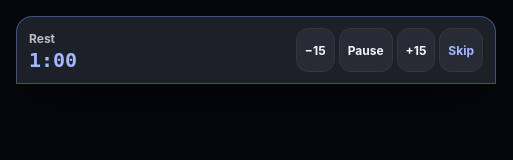
Test case: RestTimer › ±15s buttons work while paused
The image size is (513, 160).
Click the button with aria-label "pause timer": (366, 50) [339, 28, 392, 72]
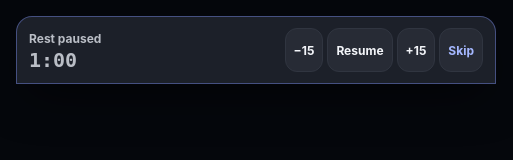
 Add 15s
Click the button named "Add 15 seconds": (416, 50) [397, 28, 435, 72]
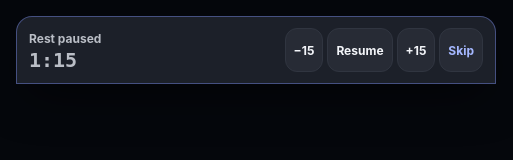
Now the text "1:15" is shown, box [29, 48, 77, 72]
Subtract 15s
Click the button named "Subtract 15 seconds": (304, 50) [285, 28, 323, 72]
Wait 3000 ms
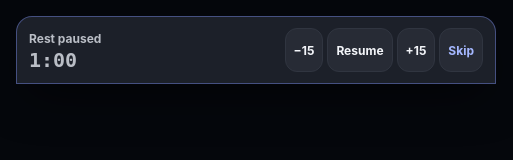
Now the text "1:00" is shown, box [29, 48, 77, 72]
